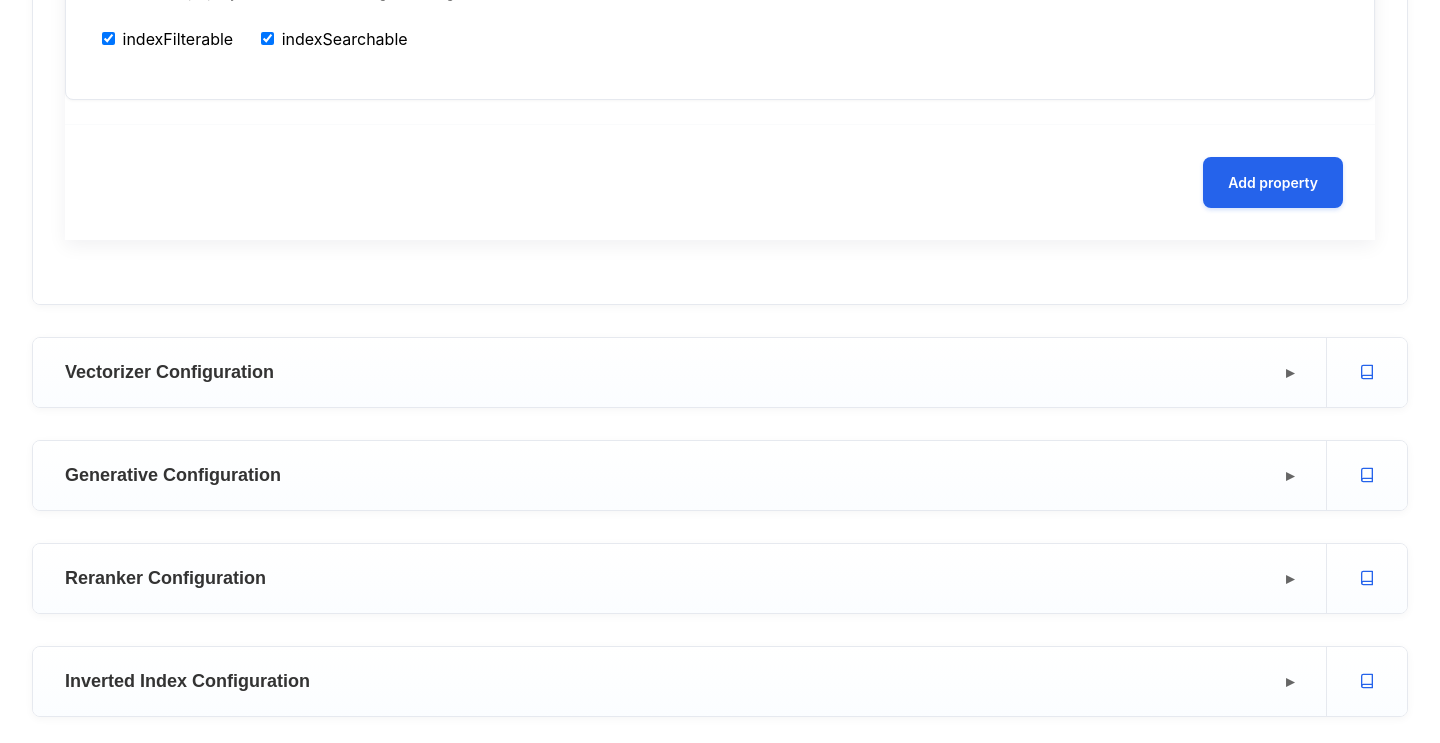
Collection - Quantization Import Tests › should import Flat with BQ quantization and render it correctly in the form
This screenshot has width=1440, height=743.
(page scrolled)
# Expand vector config section
Click the button "Vectorizer Configuration ▸". click: coordinates (170, 372)
box: [33,338,1326,407]
(page scrolled)
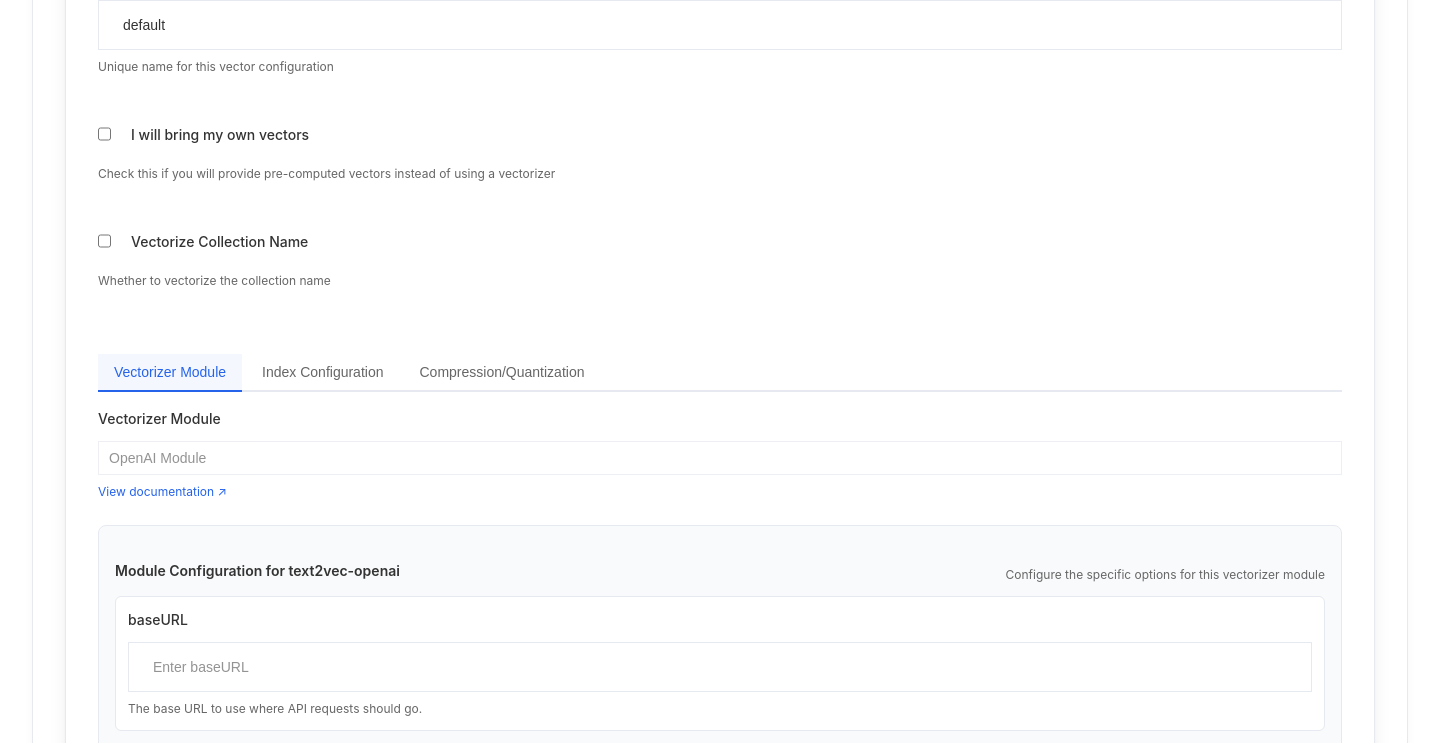
# First one is the tab inside VectorConfigItem
Click the button "Index Configuration". click: coordinates (323, 372)
box: [246,354,400,392]
(page scrolled)
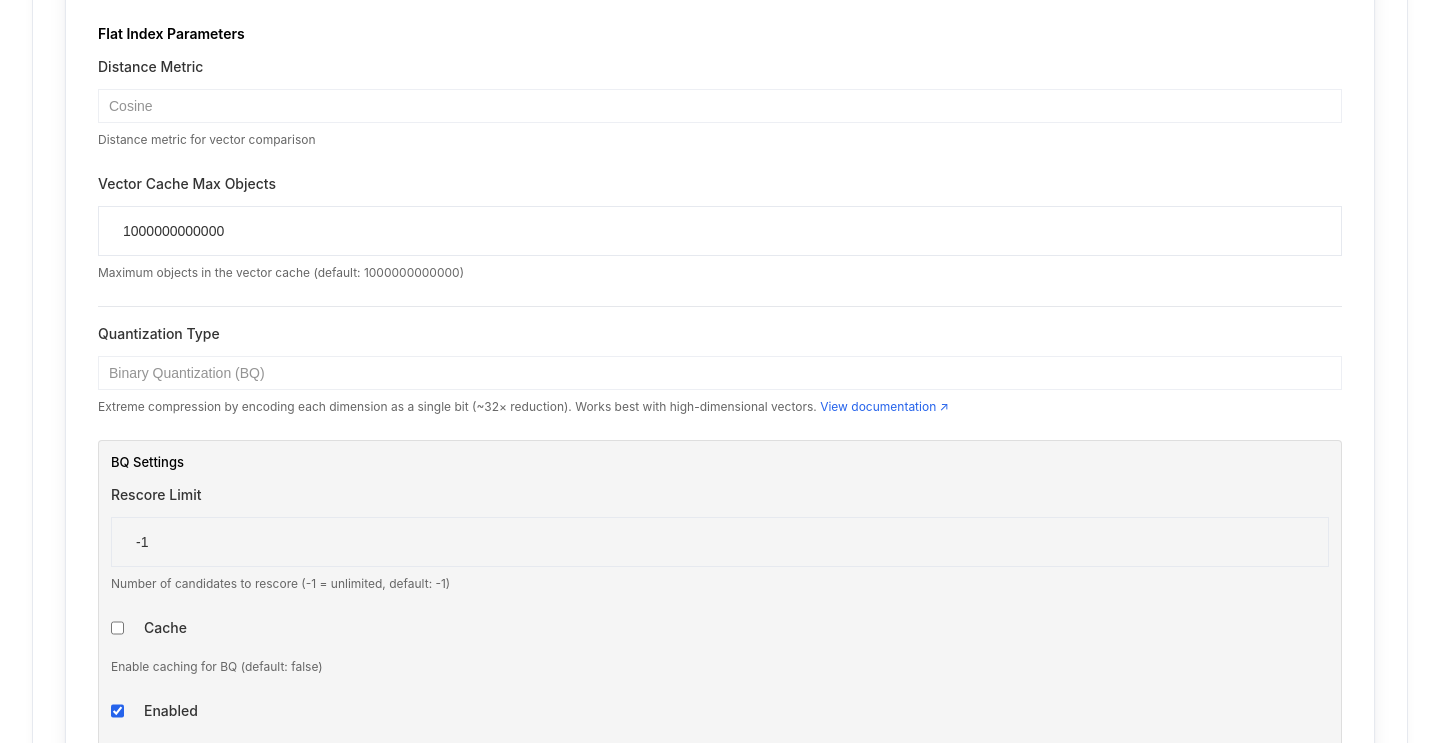
Now the dropdown labelled "Quantization Type" shows "Binary Quantization (BQ)", box [98,356,1342,390]
